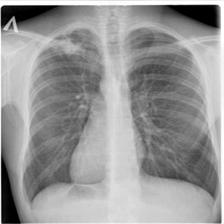tuberculosis: (17, 20, 224, 207)
